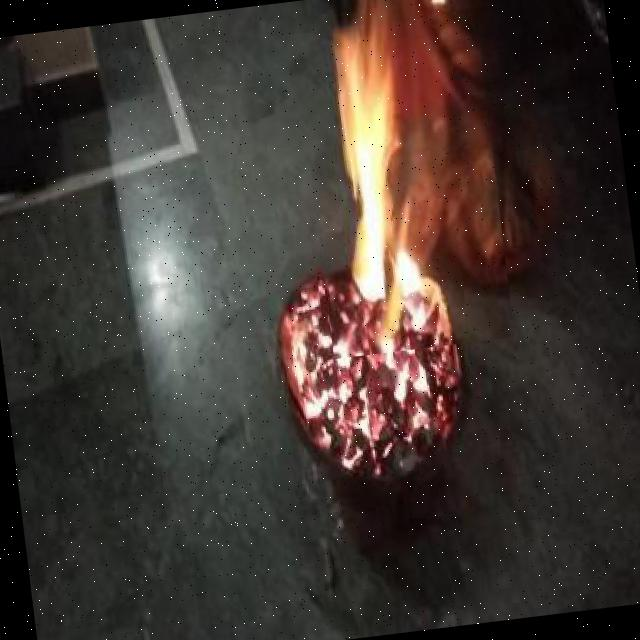fire: (289, 0, 514, 358)
